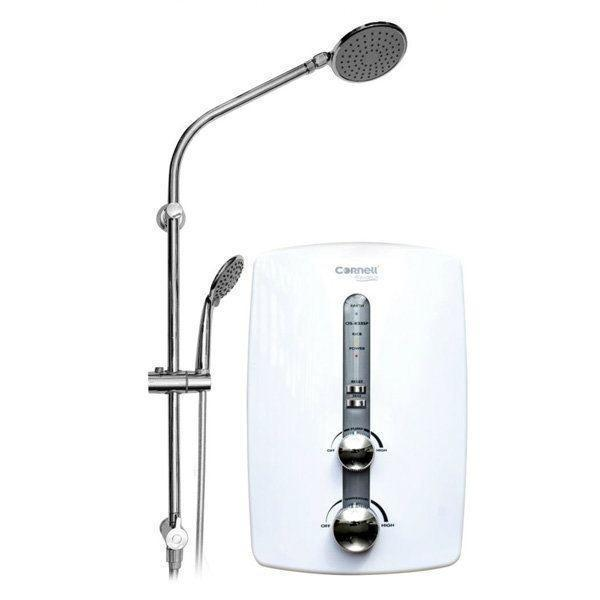Ducha: (123, 0, 487, 576)
